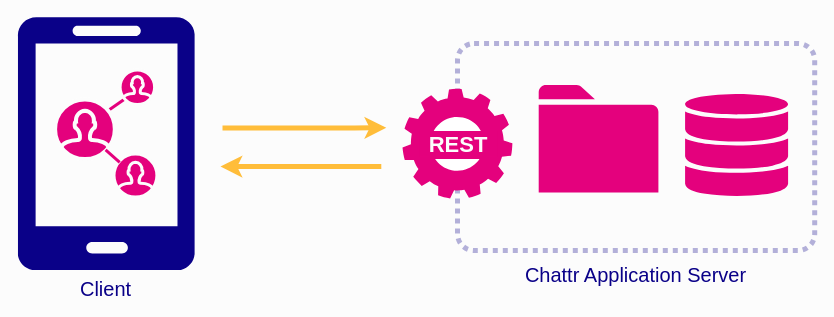
Image size: 834x317. Some labels were removed from this diagram. The shapes that lost their labels are listed below. From the top down, each one's centre as x and y in pixels, then its label:
At (x=598, y=138): "app".
At (x=736, y=145): "database".
